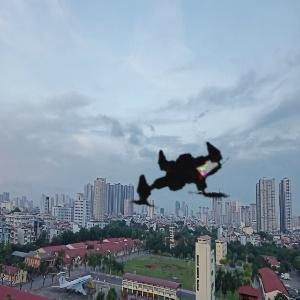drone: (107, 109, 259, 261)
